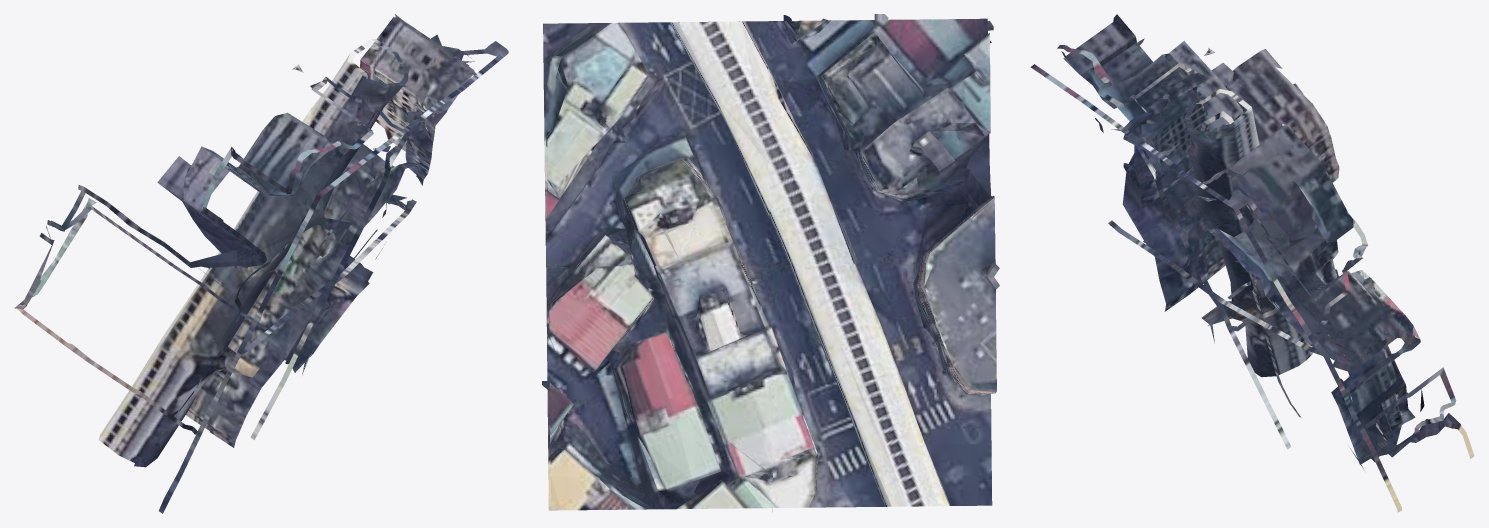
The picture shows the model from 3 angles, left to right: view 1: azimuth 30°, elevation 25°; view 2: azimuth 150°, elevation 25°; view 3: azimuth 270°, elevation 25°; orthographic projection. The views are drawn at different scales.
Bounding box in the file's own units: 92.01 × 78.61 × 78.77.
2 materials, 2 textured.
